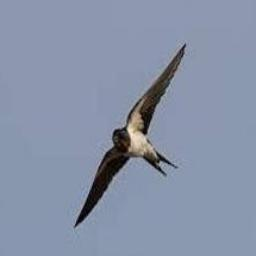Swallow: (74, 42, 188, 230)
